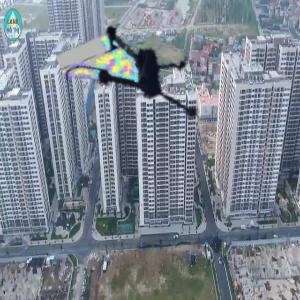drone: (75, 9, 222, 156)
